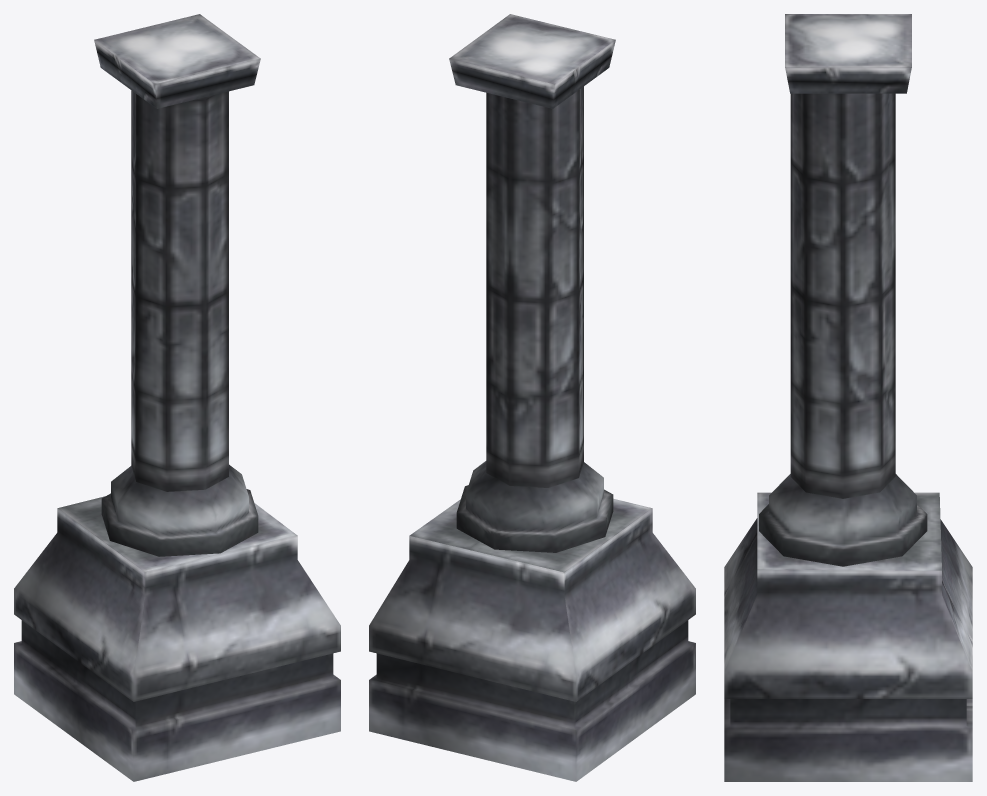
3 views of the same model, side by side, from view 1: azimuth 30°, elevation 25°; view 2: azimuth 150°, elevation 25°; view 3: azimuth 270°, elevation 25° (orthographic). The views are drawn at different scales.
Visible parts, largest first — view 1: Object117; view 2: Object117; view 3: Object117.
Part boxes in pixels (x1,y1,x2,y2): Object117: (14, 14, 340, 781); Object117: (369, 14, 695, 781); Object117: (724, 14, 972, 781).
Size of the model in its own units: 229 by 701 by 229.
